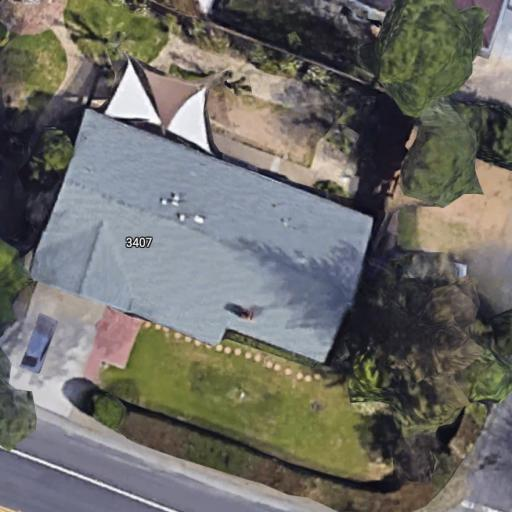Slope-Roof: (33, 104, 376, 365)
